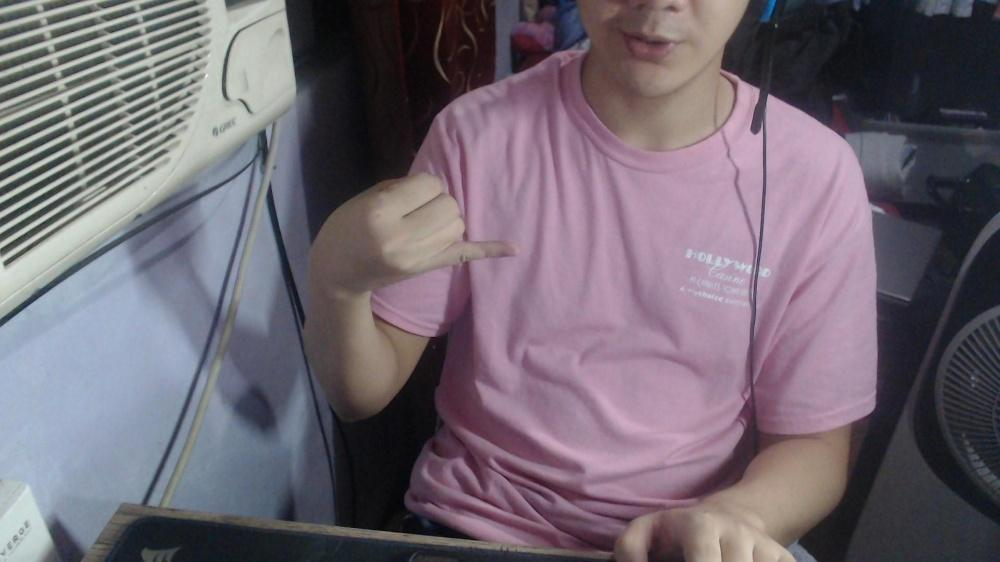j: (302, 170, 517, 297)
